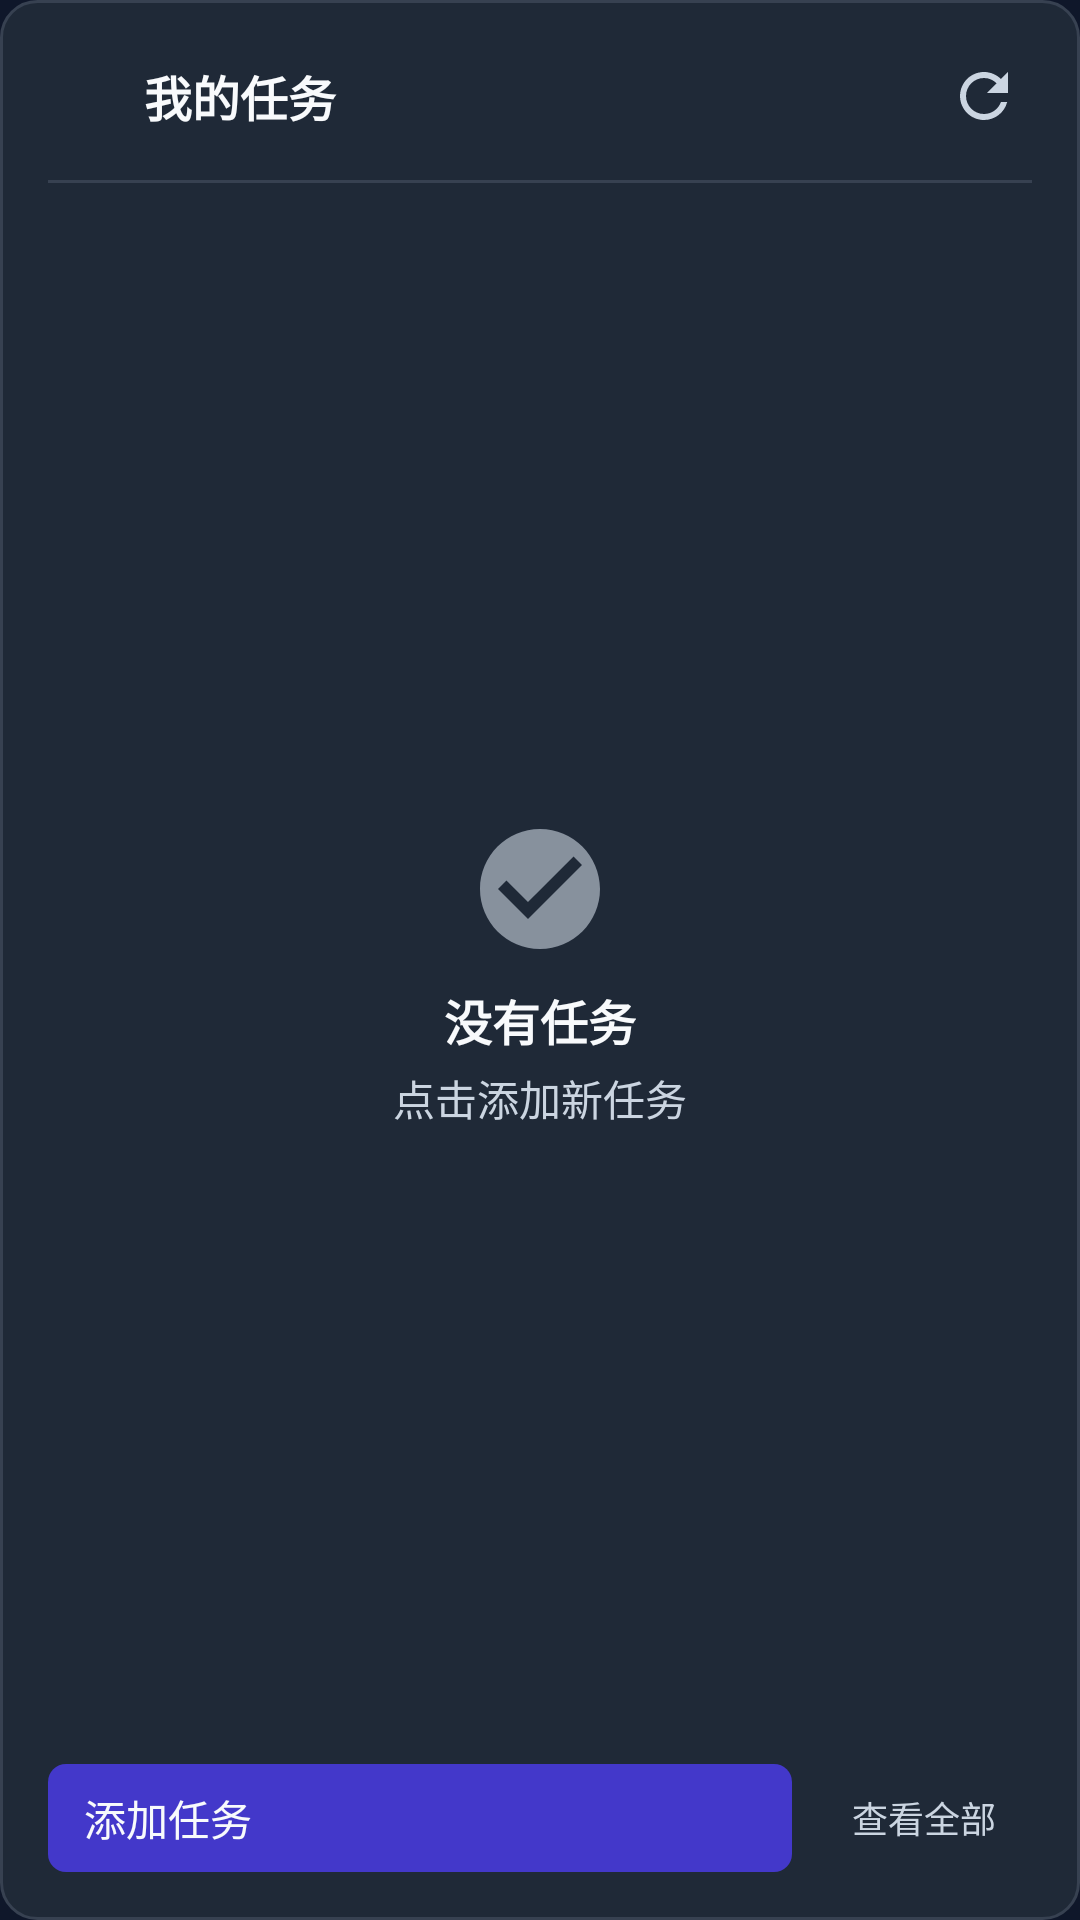

Where icons sit on this 1080 x 1920 app screen, as [left=x1, top=y1, right=x2, bottom=y2]:
task complete: [left=480, top=829, right=600, bottom=949]
刷新: [left=960, top=72, right=1008, bottom=120]
